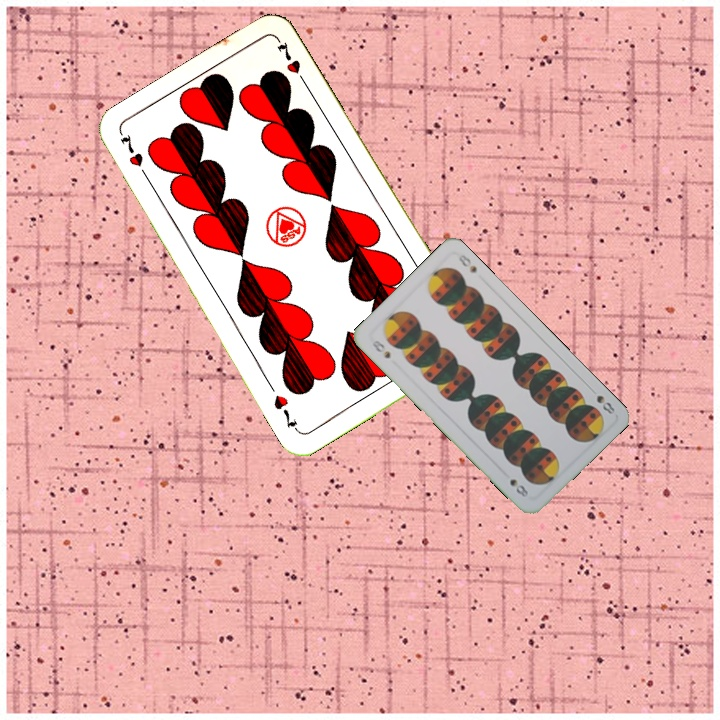H7: (116, 130, 153, 184)
S8: (585, 383, 617, 417), (368, 336, 393, 361)
